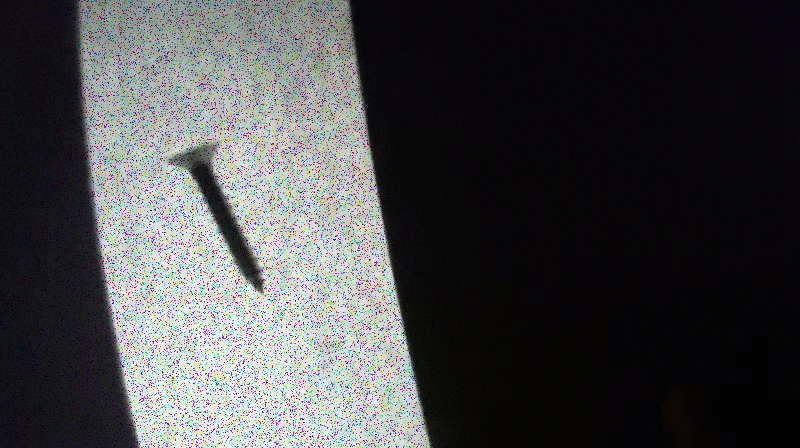S001: (161, 136, 273, 299)
